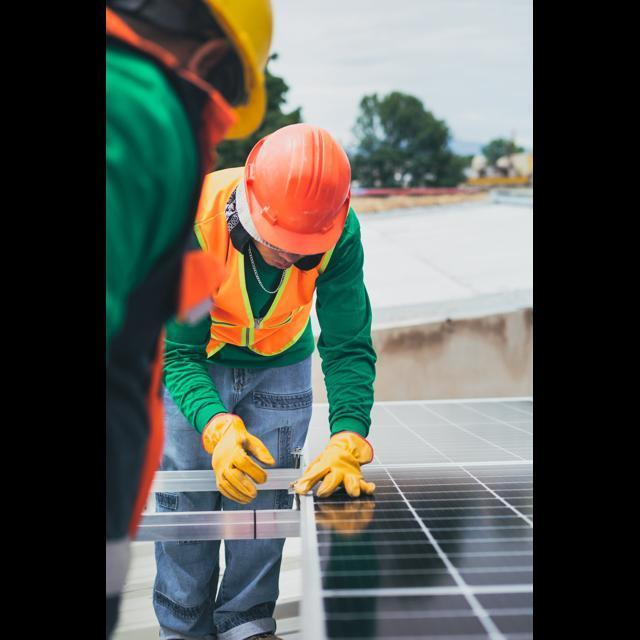Capacete: (243, 124, 350, 254), (204, 0, 271, 138)
Colete: (106, 9, 235, 536), (194, 167, 332, 356)
Pessoa: (106, 0, 271, 636), (156, 124, 375, 510)
